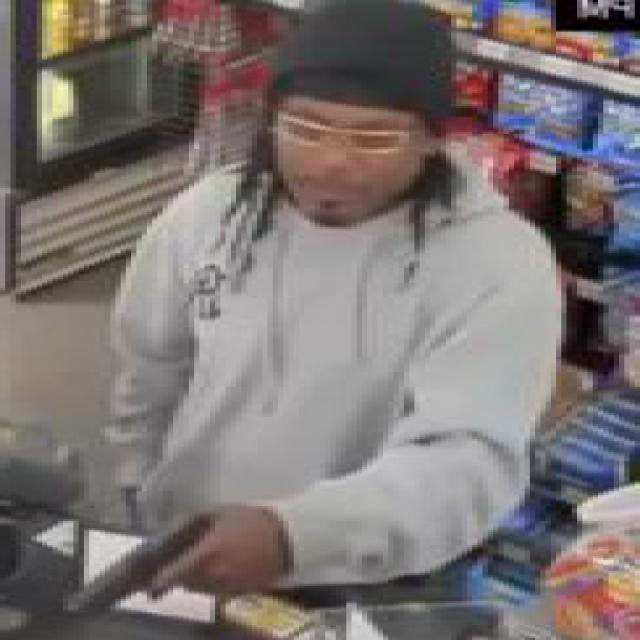Gun: (52, 508, 262, 620)
